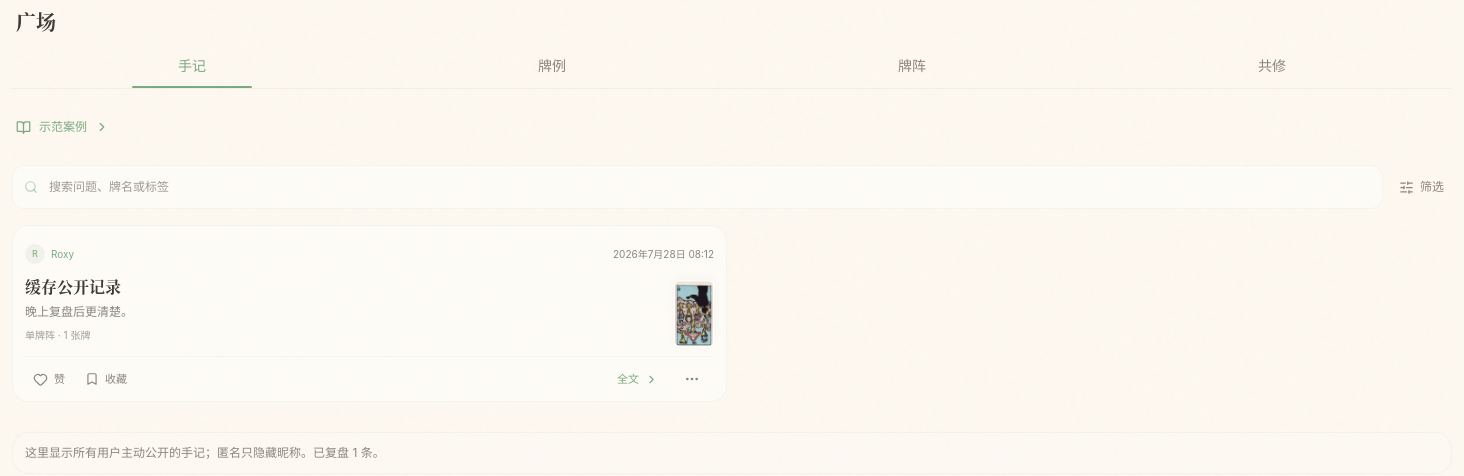
Test: PublicTab › builds card examples from public readings
Step 1. Click the tab "牌例" → (552, 66), box [372,44,732,88]
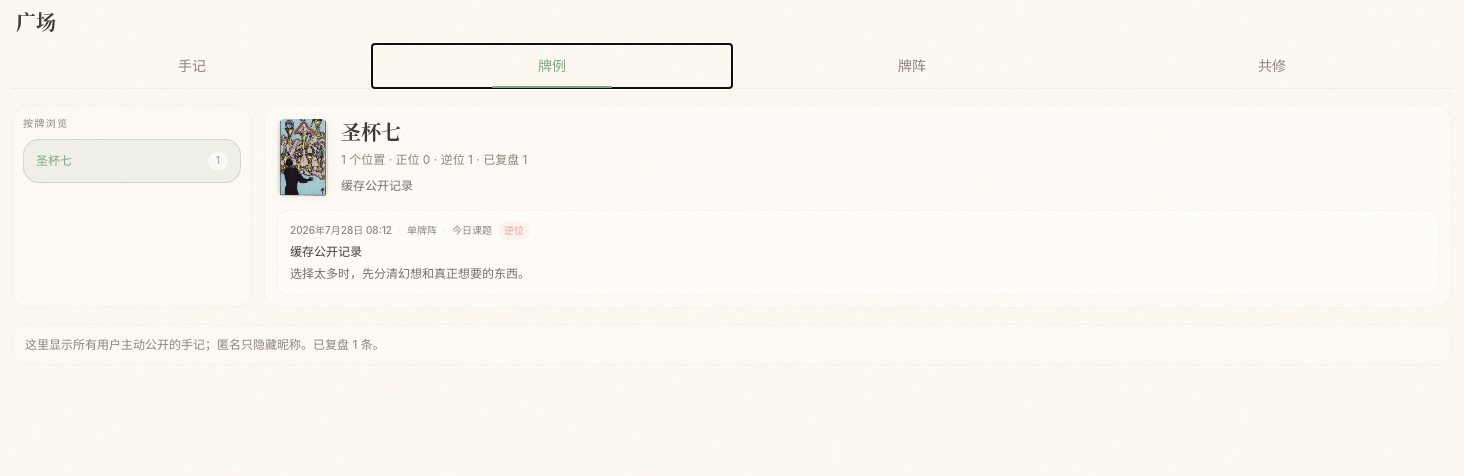
Now the text "圣杯七" below "按牌浏览" is shown, box [36,153,72,168]
Now the text "1 个位置 · 正位 0 · 逆位 1 · 已复盘 1" is shown, box [341,152,527,167]
Now the text "选择太多时，先分清幻想和真正想要的东西。" is shown, box [290,266,530,281]
